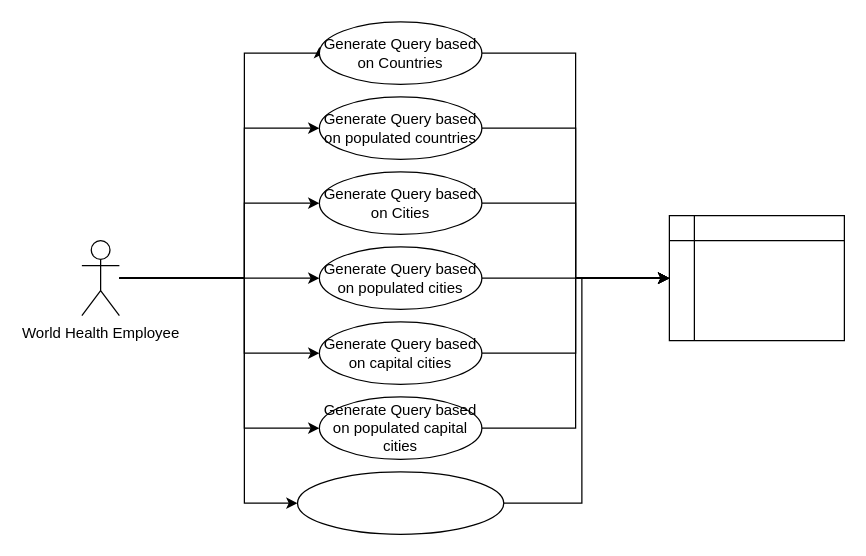
This 866x556 diagram has some shape labels left out. Here are the shapes that lost their labels. From the top down, the box of each, then its label:
(668, 214, 844, 341): Database
(296, 471, 504, 534): Generate Query based on population of people living in and out of cities
